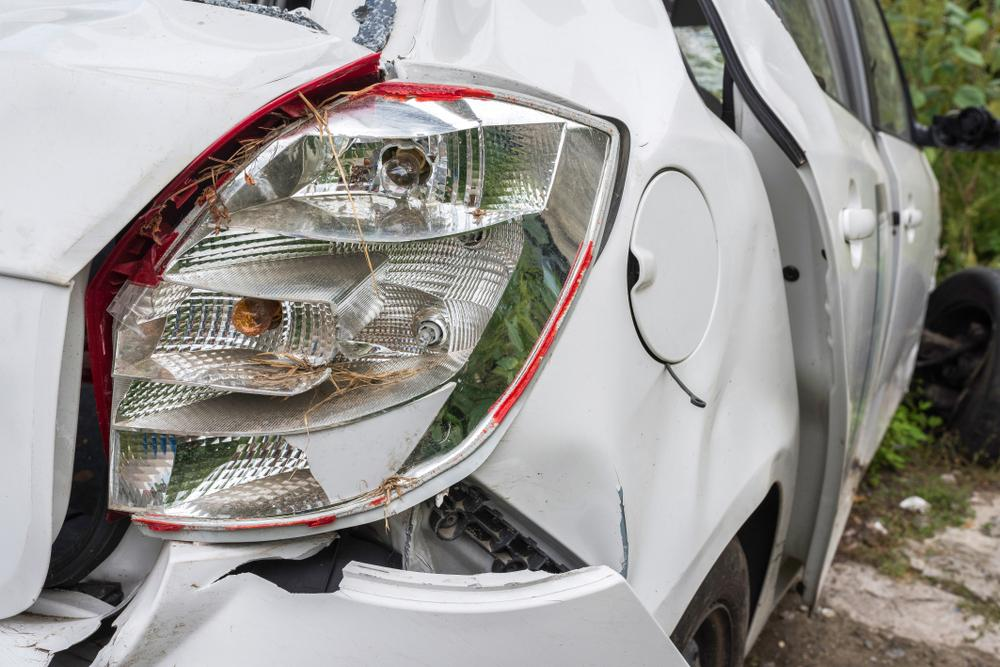crack: (200, 535, 352, 595), (40, 588, 141, 667)
dent: (500, 239, 791, 606), (5, 6, 338, 87), (430, 0, 495, 70)
lamp broken: (105, 92, 612, 522)
